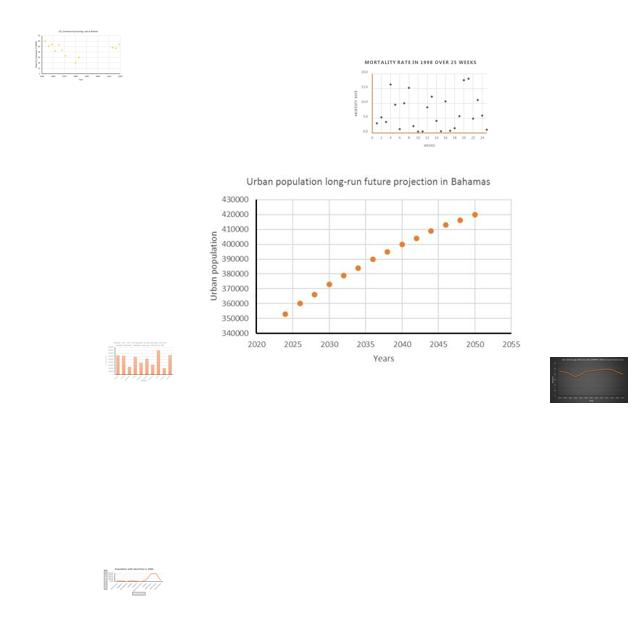Graph: (191, 169, 526, 371), (353, 58, 490, 150), (33, 29, 123, 82), (550, 357, 628, 403), (105, 341, 174, 382), (103, 566, 165, 597)
